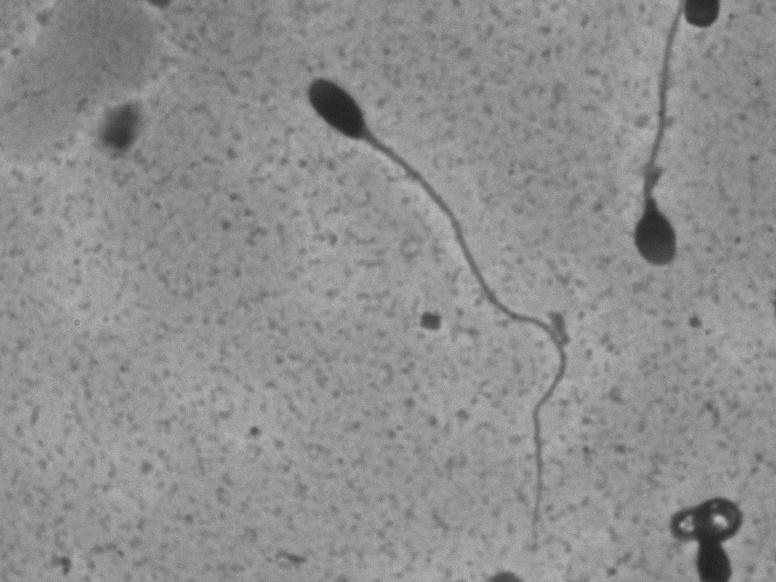Abnormal: (288, 51, 577, 560), (618, 22, 735, 283)
